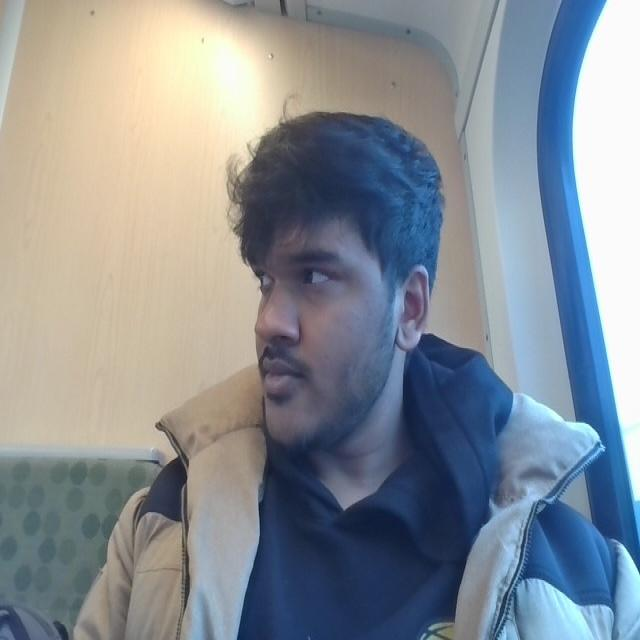no hat: (222, 78, 452, 206)
